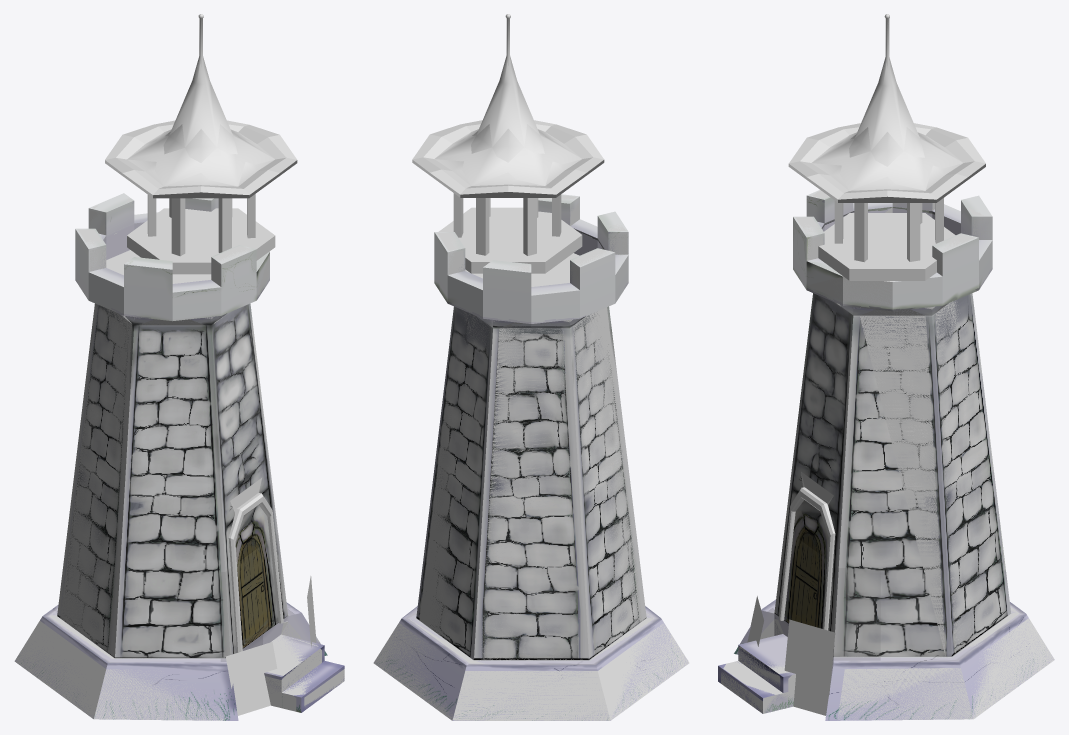
Rendered from tower_base.fbx.
3 views of the same model, side by side, from view 1: azimuth 30°, elevation 25°; view 2: azimuth 150°, elevation 25°; view 3: azimuth 270°, elevation 25° (orthographic). The views are drawn at different scales.
Visible parts, largest first — view 1: TowerBaseLowRes, TowerBaseHighRes, TowerTop.001, TowerTop, Grass; view 2: TowerBaseLowRes, TowerBaseHighRes, TowerTop.001, TowerTop; view 3: TowerBaseLowRes, TowerBaseHighRes, TowerTop.001, TowerTop, Grass.
Part boxes in pixels (left/top/right/bottom): TowerBaseLowRes: left=15, top=193, right=344, bottom=720; TowerBaseHighRes: left=15, top=198, right=344, bottom=720; TowerTop.001: left=105, top=14, right=297, bottom=274; TowerTop: left=127, top=18, right=274, bottom=186; Grass: left=226, top=576, right=316, bottom=715; TowerBaseLowRes: left=374, top=194, right=687, bottom=720; TowerBaseHighRes: left=373, top=195, right=689, bottom=720; TowerTop.001: left=412, top=14, right=604, bottom=273; TowerTop: left=435, top=21, right=581, bottom=185; TowerBaseLowRes: left=718, top=190, right=1054, bottom=720; TowerBaseHighRes: left=721, top=190, right=1054, bottom=720; TowerTop.001: left=788, top=14, right=985, bottom=280; TowerTop: left=812, top=19, right=962, bottom=190; Grass: left=747, top=596, right=835, bottom=715.
Bounding box in the file's own units: 627 × 1598 × 741.
Materials: 1 (1 with a texture image).
